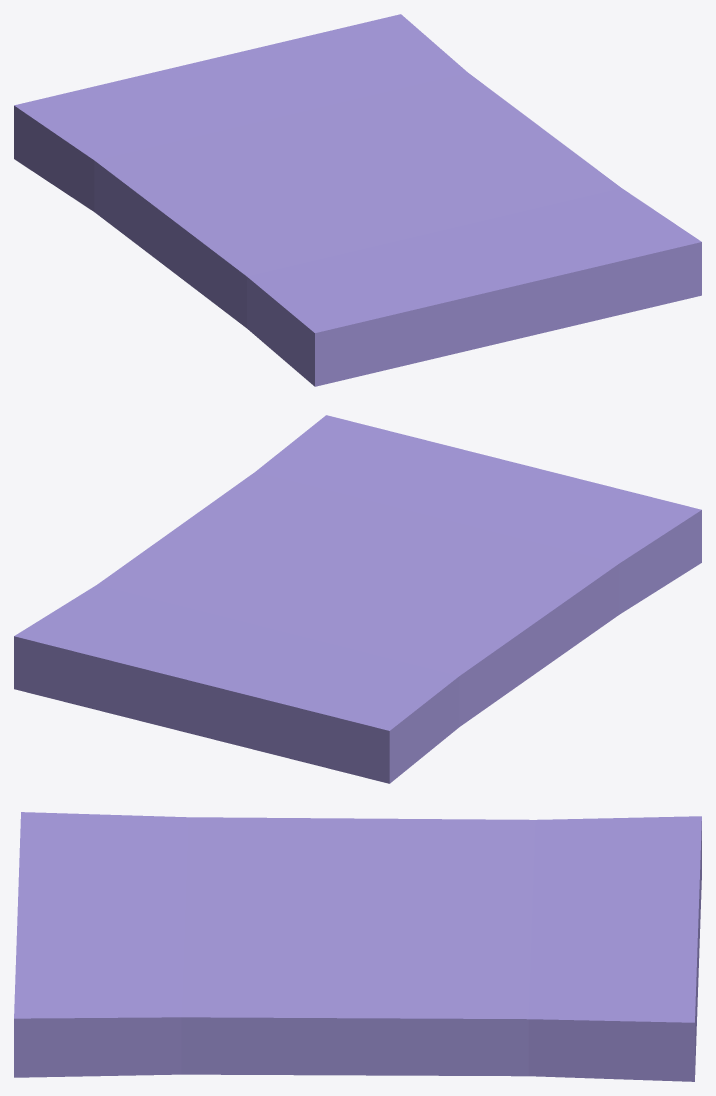
Rendered from modulo1.fbx.
3 renders of one model, top to bottom at view 1: azimuth 30°, elevation 25°; view 2: azimuth 150°, elevation 25°; view 3: azimuth 270°, elevation 25°, orthographic. The views are drawn at different scales.
Parts seen in each view (by area): view 1: Cube.001; view 2: Cube.001; view 3: Cube.001.
Boxes of the visible parts, x1,y1,x2,y2 form: Cube.001: (14,14,701,386); Cube.001: (14,415,701,783); Cube.001: (14,812,701,1081).
Bounding box in the file's own units: 1752 × 229 × 2417.
